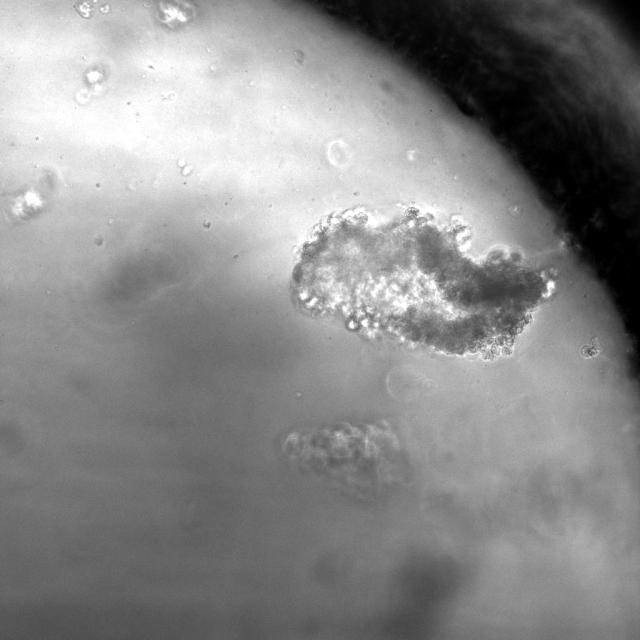organoid: (292, 208, 554, 358), (281, 421, 411, 502)
